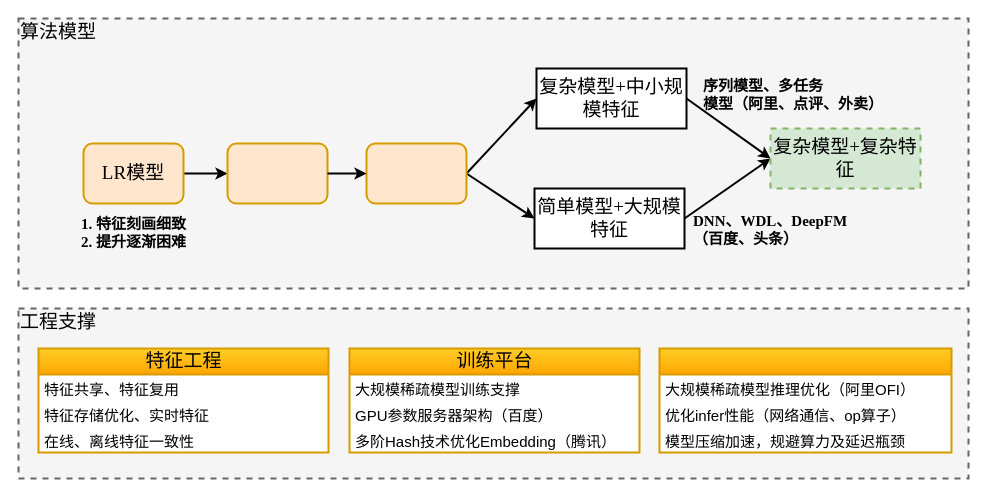
Image size: 986x496. Some labels were removed from this diagram. The shapes that lost their labels are listed below. From the top down, each one's box as (x1, y1, x2, y2) in pixels, then its label:
(226, 142, 328, 204): 树模型 or FM
(365, 142, 467, 204): NN模型
(658, 347, 952, 453): 在线Serving
